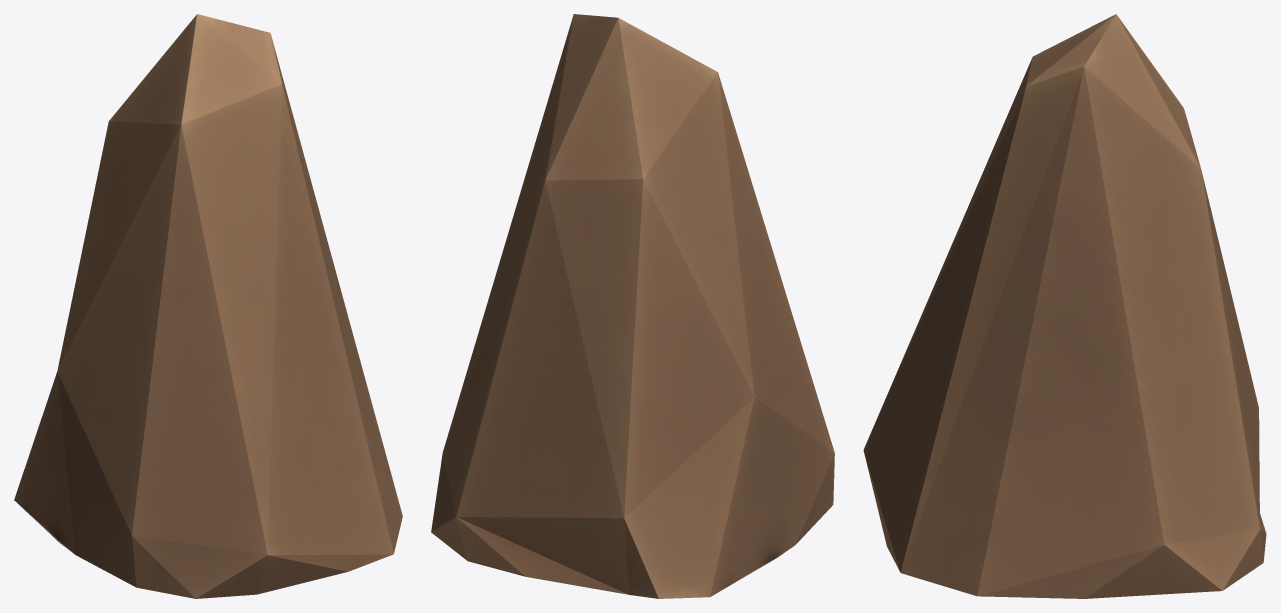
The model's file is Rock_7.fbx.
3 views of the same model, side by side, from view 1: azimuth 30°, elevation 25°; view 2: azimuth 150°, elevation 25°; view 3: azimuth 270°, elevation 25° (orthographic). The views are drawn at different scales.
Visible parts, largest first — view 1: Rock_7; view 2: Rock_7; view 3: Rock_7.
Part boxes in pixels (x1=…): Rock_7: x1=14, y1=14, x2=402, y2=598; Rock_7: x1=431, y1=14, x2=834, y2=598; Rock_7: x1=863, y1=14, x2=1266, y2=598.
Size of the model in its own units: 29.67 by 47.49 by 33.94.
